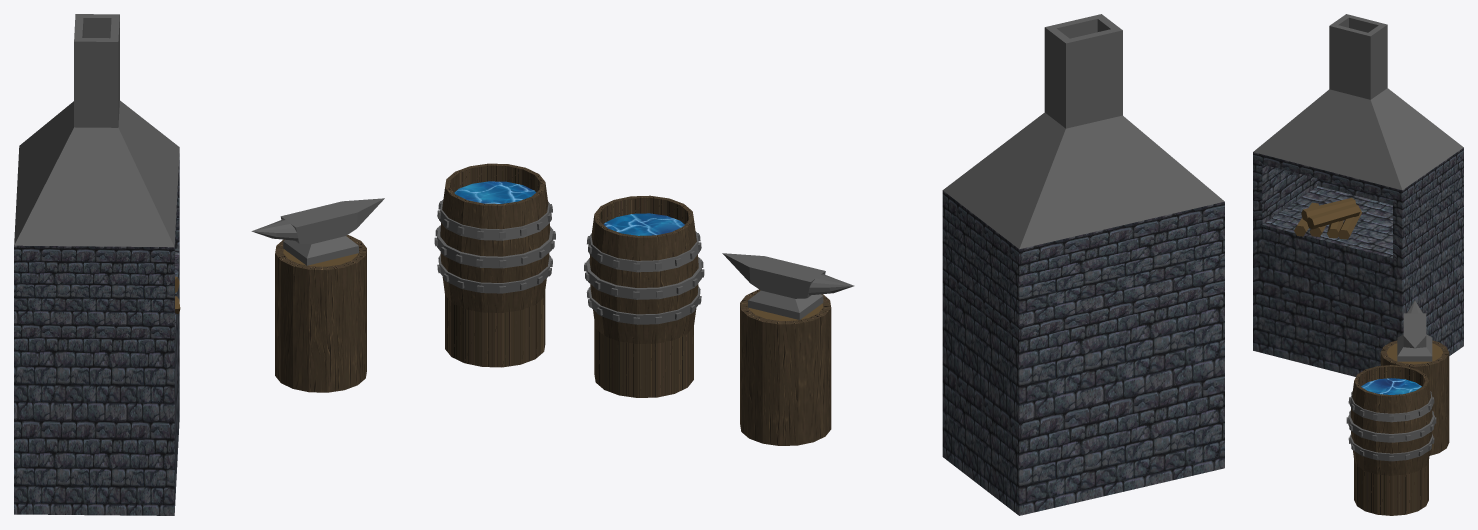
Rendered from Forge.fbx.
The picture shows the model from 3 angles, left to right: view 1: azimuth 30°, elevation 25°; view 2: azimuth 150°, elevation 25°; view 3: azimuth 270°, elevation 25°; orthographic projection. The views are drawn at different scales.
Parts seen in each view (by area): view 1: VulkainForge; view 2: VulkainForge; view 3: VulkainForge.
Part boxes in pixels (x1,y1,x2,y2): VulkainForge: (14,14,555,515); VulkainForge: (584,14,1224,515); VulkainForge: (1253,14,1463,515).
Size of what is drawn, in the model's own units: 2251 by 1606 by 950.
Materials: 5 (4 with a texture image).
